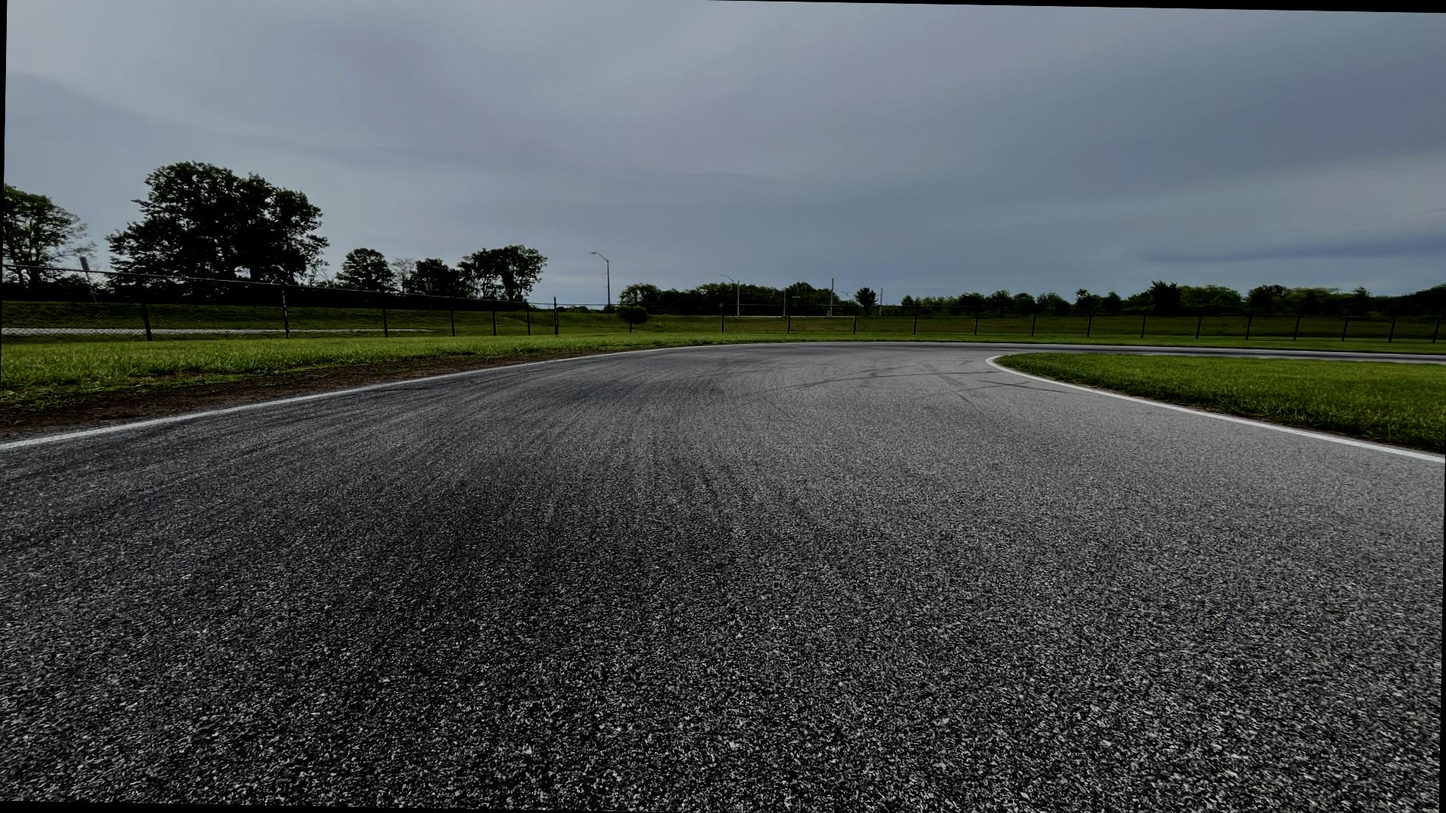white-line: (0, 343, 828, 451), (984, 355, 1444, 464)
